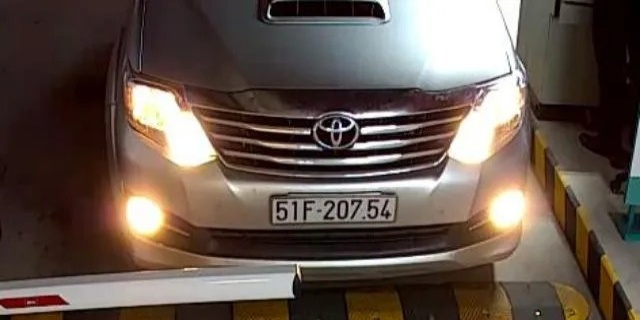bien_so: (272, 195, 395, 225)
